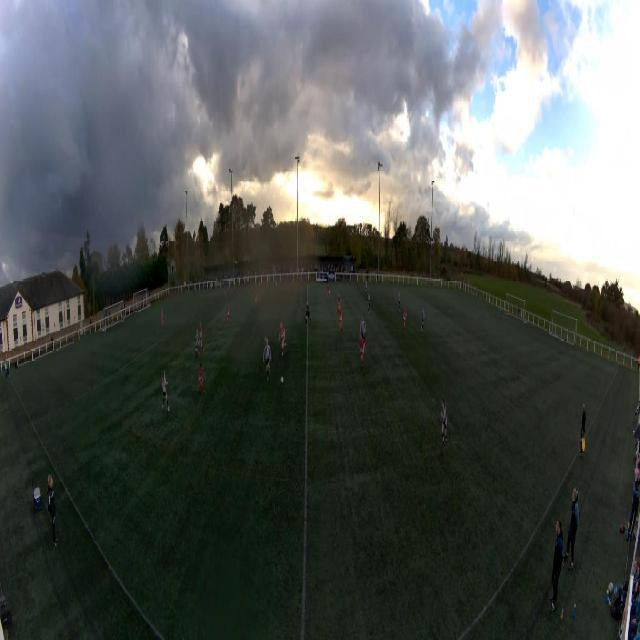ball: (281, 377, 284, 384)
player: (161, 368, 170, 412), (263, 337, 272, 381), (358, 332, 366, 369), (441, 396, 447, 442), (279, 323, 287, 355), (198, 364, 206, 396), (305, 300, 312, 326), (199, 324, 205, 354), (360, 313, 366, 341), (338, 301, 342, 339), (194, 330, 199, 360), (403, 306, 407, 334), (421, 306, 425, 332), (227, 302, 231, 328), (327, 284, 332, 303), (367, 294, 371, 315), (398, 290, 401, 312), (338, 294, 342, 310), (161, 309, 164, 328), (275, 278, 278, 294), (255, 291, 258, 307), (499, 303, 502, 319), (365, 282, 368, 297)
